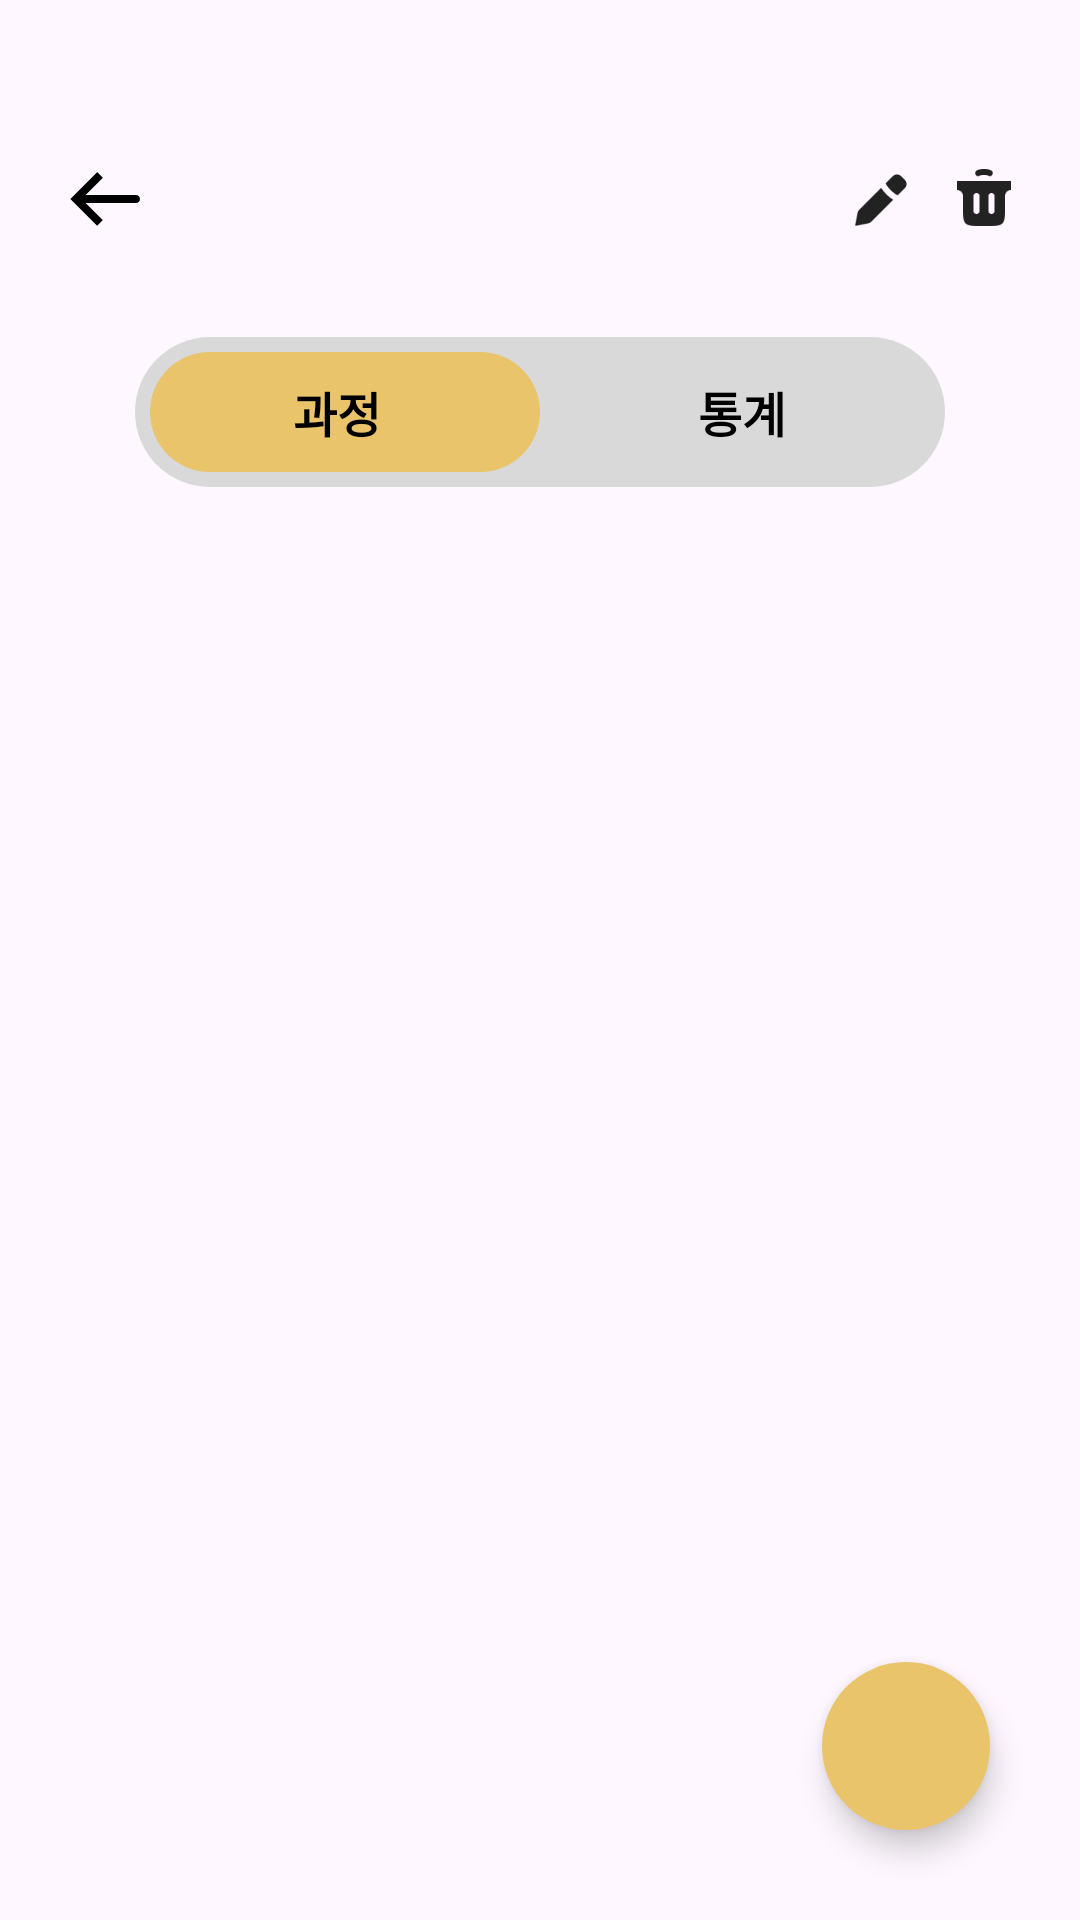

Named icons in this screenshot (1080 × 1920) and their centers, (x=x, y=y):
arrow left: (x=105, y=199)
delete: (x=984, y=197)
edit: (x=881, y=200)
